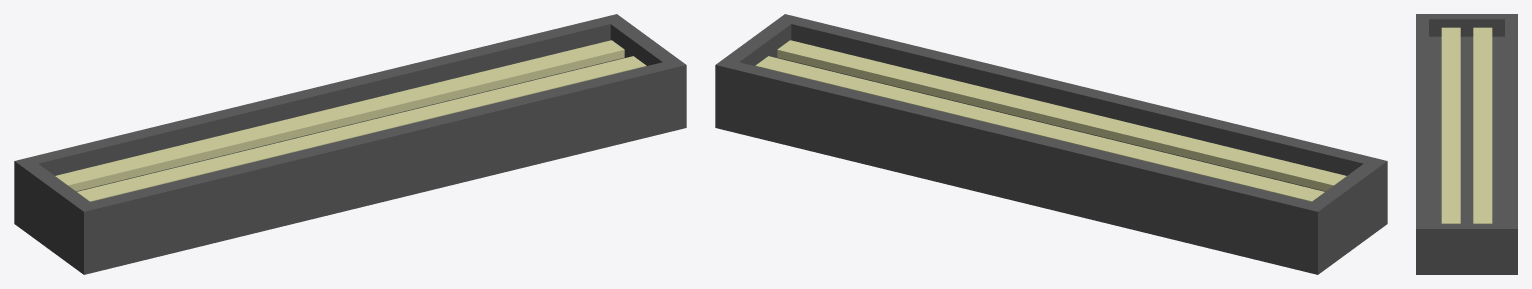
File: lights.fbx
3 views of the same model, side by side, from view 1: azimuth 30°, elevation 25°; view 2: azimuth 150°, elevation 25°; view 3: azimuth 270°, elevation 25° (orthographic). The views are drawn at different scales.
Visible parts, largest first — view 1: pCube1; view 2: pCube1; view 3: pCube1.
Boxes of the visible parts, box(x1,y1,x2,y2) form: pCube1: box(14, 14, 686, 274); pCube1: box(715, 14, 1387, 274); pCube1: box(1416, 14, 1517, 274).
Bounding box in the file's own units: 500 × 50 × 100.
